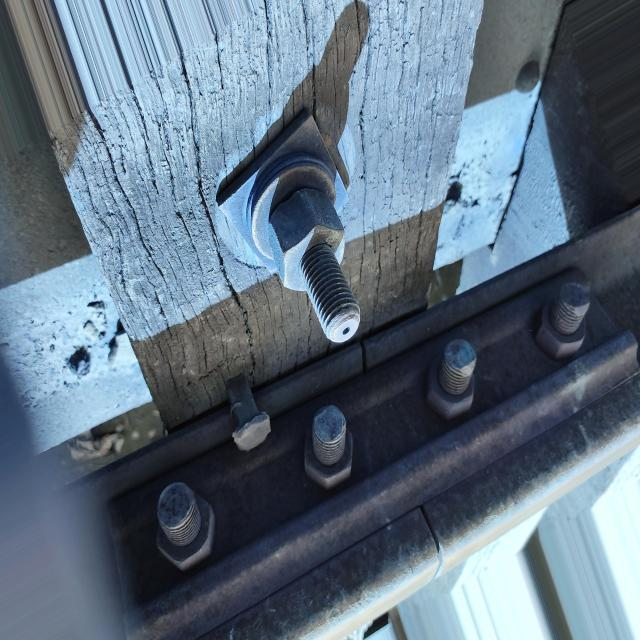Good Fasteners: (221, 113, 360, 341)
Good Joint: (99, 232, 634, 638)
